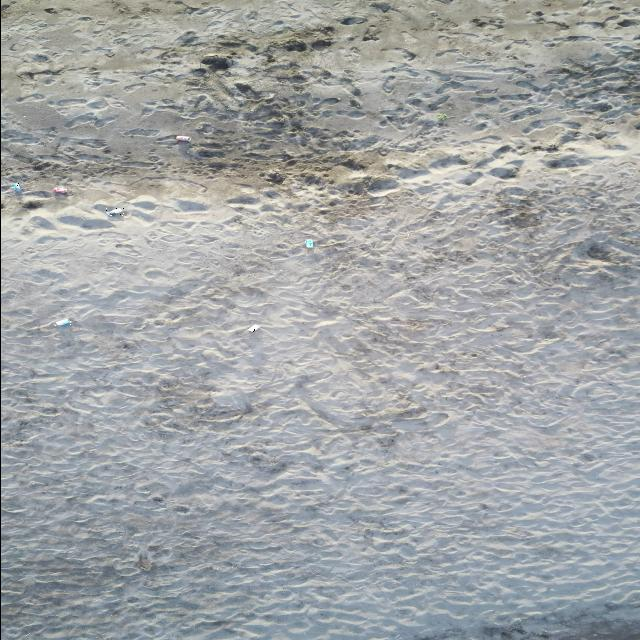Garbage: (200, 54, 231, 70), (266, 172, 283, 183), (105, 207, 123, 215), (9, 182, 22, 192), (55, 318, 71, 326), (51, 186, 68, 193), (247, 324, 260, 332), (436, 111, 447, 120), (176, 135, 190, 140), (306, 239, 312, 247)
